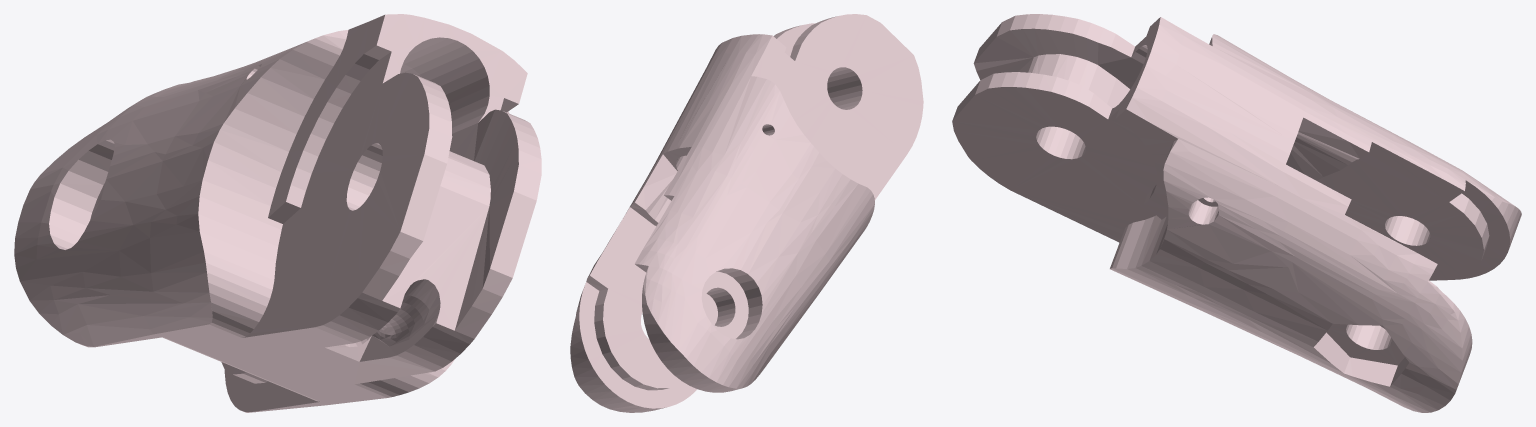
Rendered from i02_leftHand_indexMid_visual.obj.balanced.glb.
3 views of the same model, side by side, from view 1: azimuth 30°, elevation 25°; view 2: azimuth 150°, elevation 25°; view 3: azimuth 270°, elevation 25° (orthographic). The views are drawn at different scales.
Size of the model in its own units: 0.177 by 0.2842 by 0.3928.
